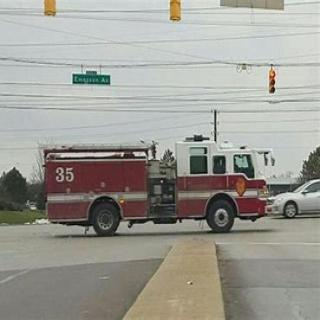Fire_truck: (41, 132, 275, 235)
